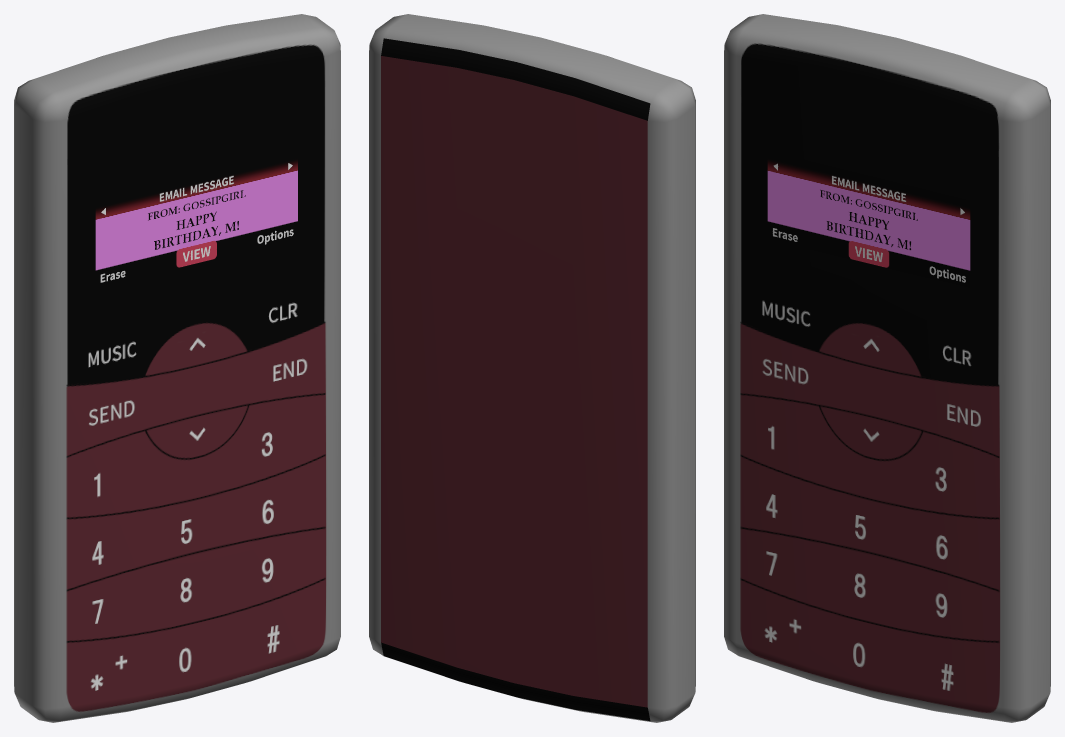
Rendered from phone_closed.glb.
3 renders of one model, left to right at view 1: azimuth 30°, elevation 25°; view 2: azimuth 150°, elevation 25°; view 3: azimuth 330°, elevation 25°, orthographic.
Parts seen in each view (by area): view 1: polySurface2, polySurface1; view 2: polySurface2; view 3: polySurface2, polySurface1.
Part boxes in pixels (x1,y1,x2,y2): polySurface2: (14,14,340,722); polySurface1: (95,150,297,287); polySurface2: (369,14,695,722); polySurface2: (724,14,1050,722); polySurface1: (767,151,970,287).
Size of the model in its own units: 2.09 by 4.21 by 0.4351.
Materials: 2 (2 with a texture image).
